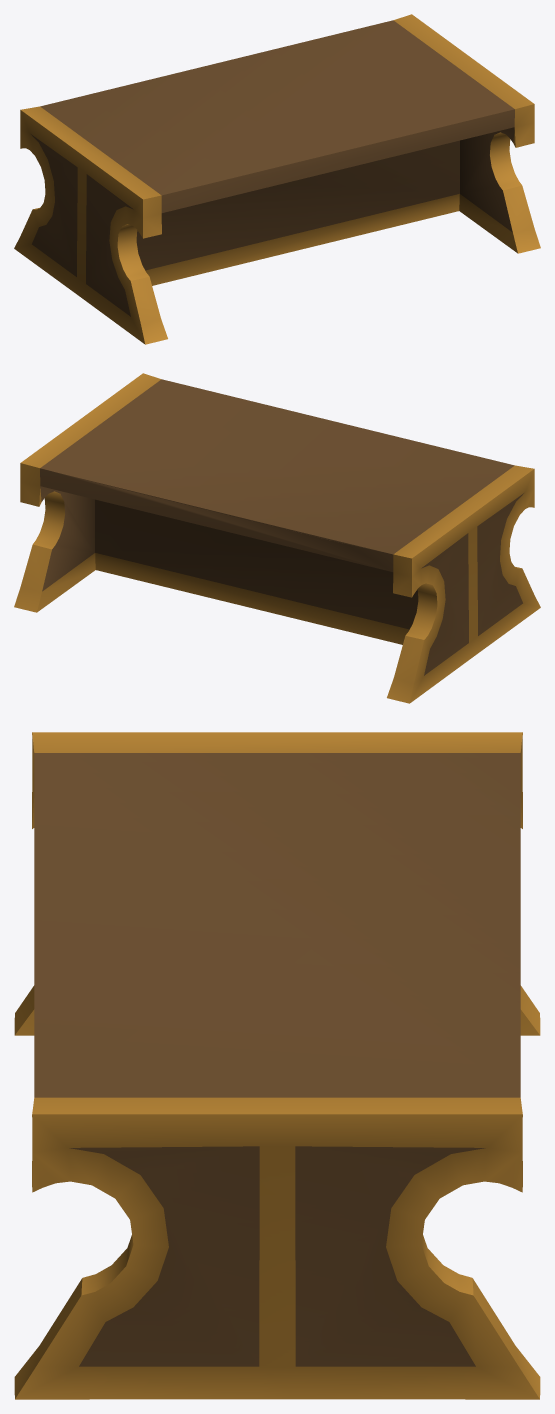
File: obj_tableBig_LOW.FBX
The picture shows the model from 3 angles, top to bottom: view 1: azimuth 30°, elevation 25°; view 2: azimuth 150°, elevation 25°; view 3: azimuth 270°, elevation 25°; orthographic projection. The views are drawn at different scales.
Visible parts, largest first — view 1: obj_tableBig_LOW; view 2: obj_tableBig_LOW; view 3: obj_tableBig_LOW.
Part boxes in pixels (x1,y1,x2,y2): obj_tableBig_LOW: [14, 14, 540, 344]; obj_tableBig_LOW: [14, 373, 540, 703]; obj_tableBig_LOW: [14, 732, 540, 1399].
Bounding box in the file's own units: 5.67 × 1.94 × 3.26.
